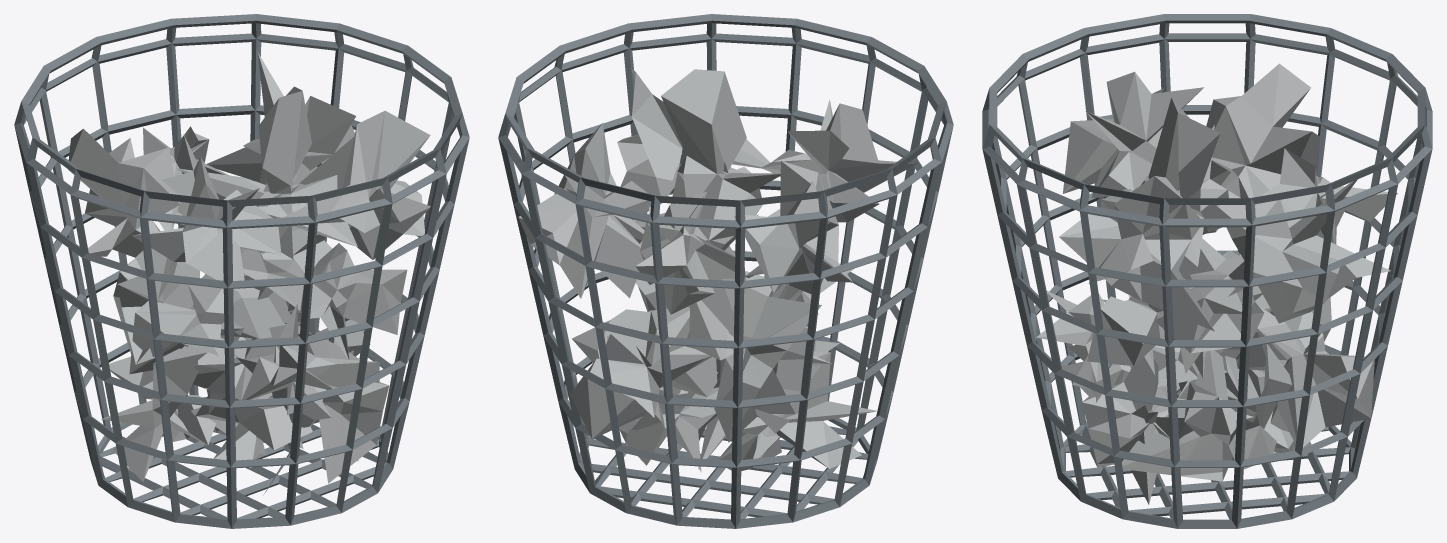
Rendered from Bin.fbx.
3 views of the same model, side by side, from view 1: azimuth 30°, elevation 25°; view 2: azimuth 150°, elevation 25°; view 3: azimuth 270°, elevation 25° (orthographic).
Visible parts, largest first — view 1: RecyclingBin; view 2: RecyclingBin; view 3: RecyclingBin.
Part boxes in pixels (<box>): RecyclingBin: <box>14,14,469,528</box>; RecyclingBin: <box>498,14,953,528</box>; RecyclingBin: <box>982,14,1432,528</box>.
Size of the model in its own units: 92.49 by 85.9 by 92.49.
Materials: 1 (1 with a texture image).
